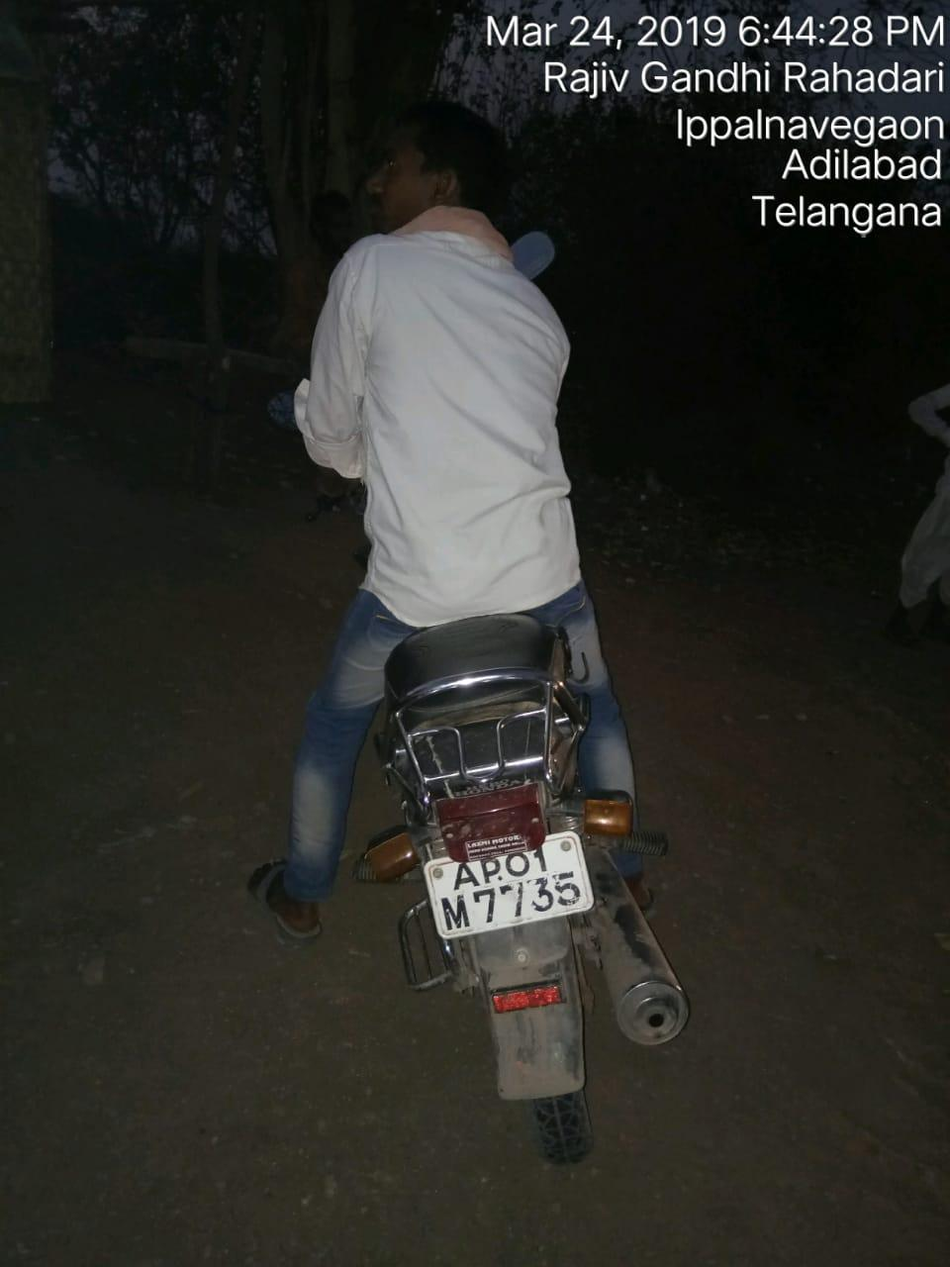plate: (394, 819, 625, 938)
